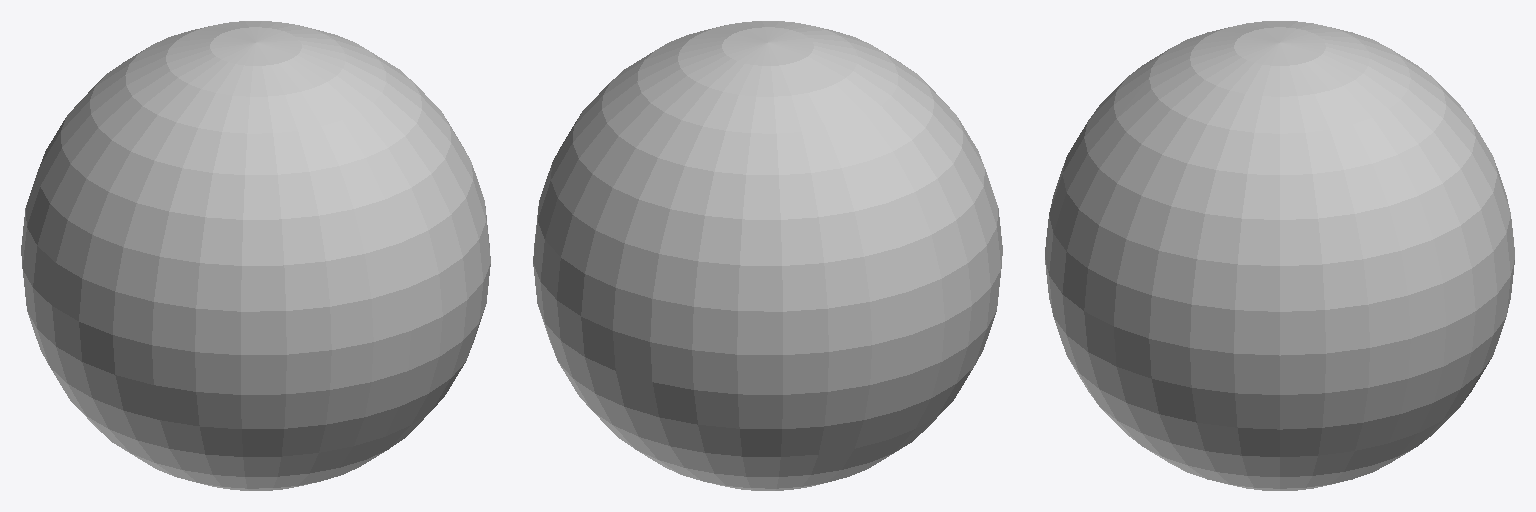
The model's file is mercurio.obj.
3 renders of one model, left to right at view 1: azimuth 30°, elevation 25°; view 2: azimuth 150°, elevation 25°; view 3: azimuth 270°, elevation 25°, orthographic.
Parts seen in each view (by area): view 1: Sphere.001_Material.002_0; view 2: Sphere.001_Material.002_0; view 3: Sphere.001_Material.002_0.
Boxes of the visible parts, x1=… form: Sphere.001_Material.002_0: x1=21, y1=21, x2=490, y2=490; Sphere.001_Material.002_0: x1=533, y1=21, x2=1002, y2=490; Sphere.001_Material.002_0: x1=1045, y1=21, x2=1514, y2=490.
Bounding box in the file's own units: 0.7106 × 0.7106 × 0.7106.